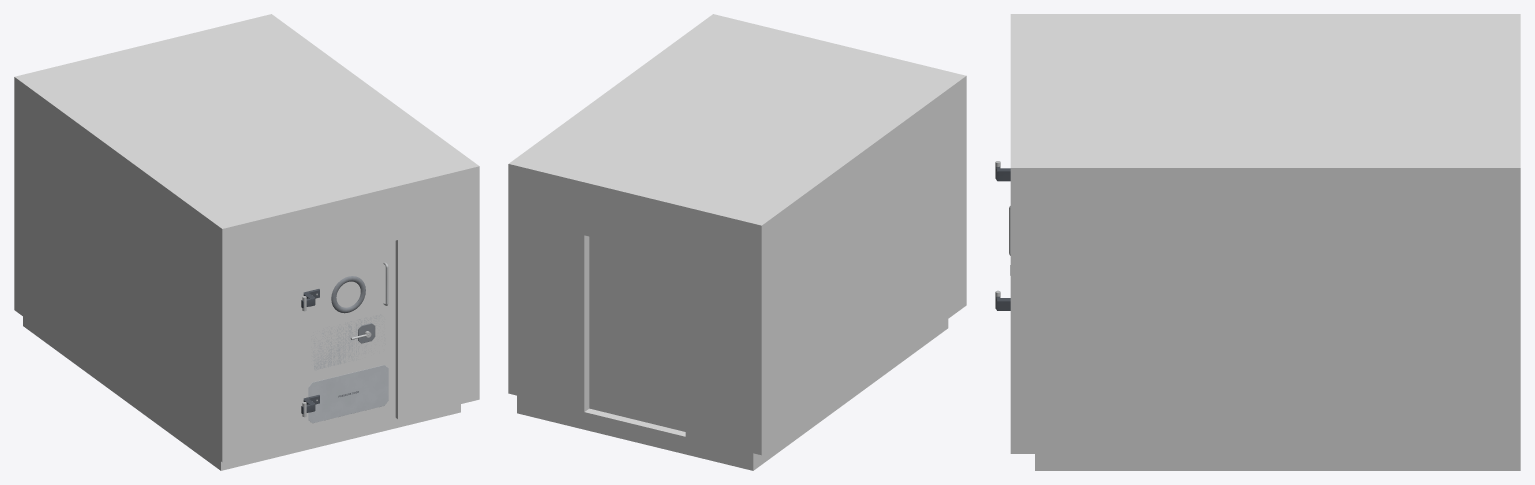
File: int_airlock.glb
3 views of the same model, side by side, from view 1: azimuth 30°, elevation 25°; view 2: azimuth 150°, elevation 25°; view 3: azimuth 270°, elevation 25° (orthographic). The views are drawn at different scales.
Visible parts, largest first — view 1: col_walls_airlock, col_door_inner, door_inner_far, col_floor_airlock; view 2: col_walls_airlock, col_door_outer, col_floor_airlock; view 3: col_walls_airlock, col_floor_airlock, door_inner_far.
Part boxes in pixels (box(x1,y1,x2,y2)): col_walls_airlock: box(14, 14, 479, 462); col_door_inner: box(303, 240, 395, 439); door_inner_far: box(301, 262, 388, 423); col_floor_airlock: box(23, 317, 460, 470); col_walls_airlock: box(508, 14, 966, 455); col_door_outer: box(589, 236, 685, 431); col_floor_airlock: box(517, 319, 948, 470); col_walls_airlock: box(1010, 14, 1520, 453); col_floor_airlock: box(1035, 454, 1520, 470); door_inner_far: box(995, 161, 1010, 310).
Size of the model in its own units: 3 by 2.8 by 4.32.
Materials: 19 (15 with a texture image).
